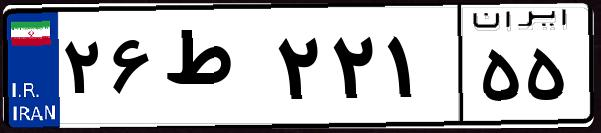1: (385, 28, 445, 110)
2: (270, 28, 330, 110), (330, 28, 385, 110), (57, 26, 110, 100)
5: (475, 38, 525, 113), (525, 38, 570, 115)
6: (110, 28, 158, 98)
ط: (158, 20, 270, 120)
